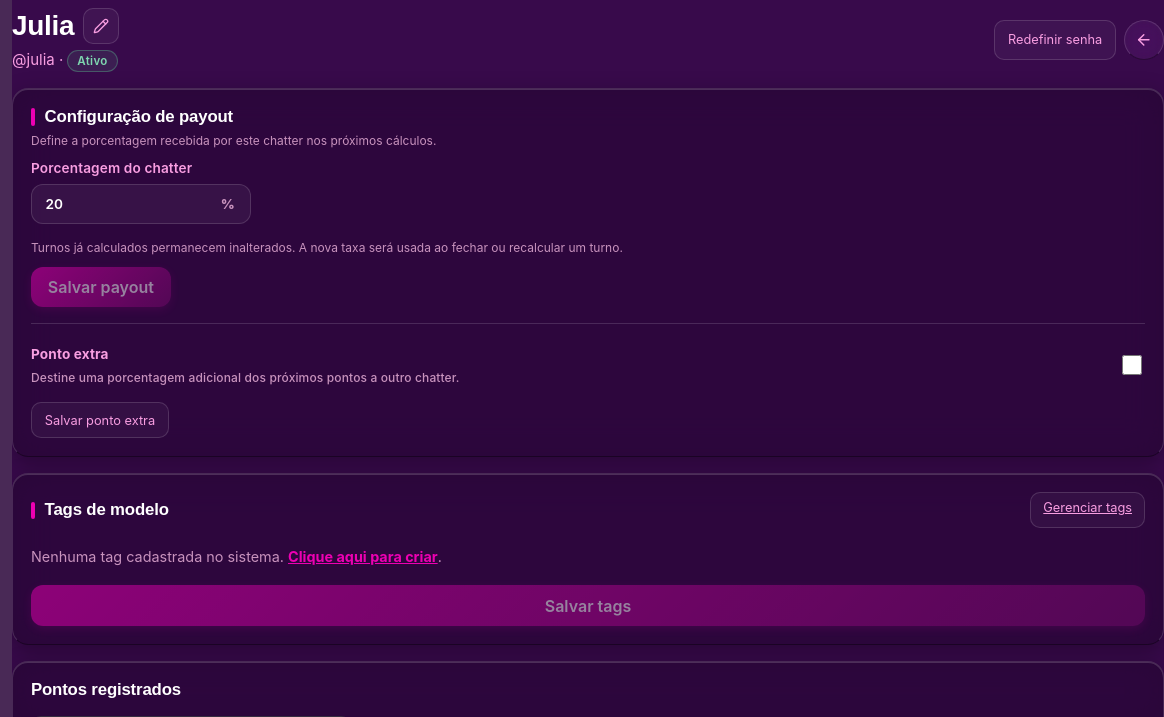
Test case: configuração de payout do chatter › carrega, valida e salva a porcentagem individual
Expected: the button "Salvar payout" is disabled, [31, 267, 171, 307]
Replace the text in the number field labelled "Porcentagem do chatter %" with "20.5". click: (141, 204)
box: [31, 184, 251, 224]
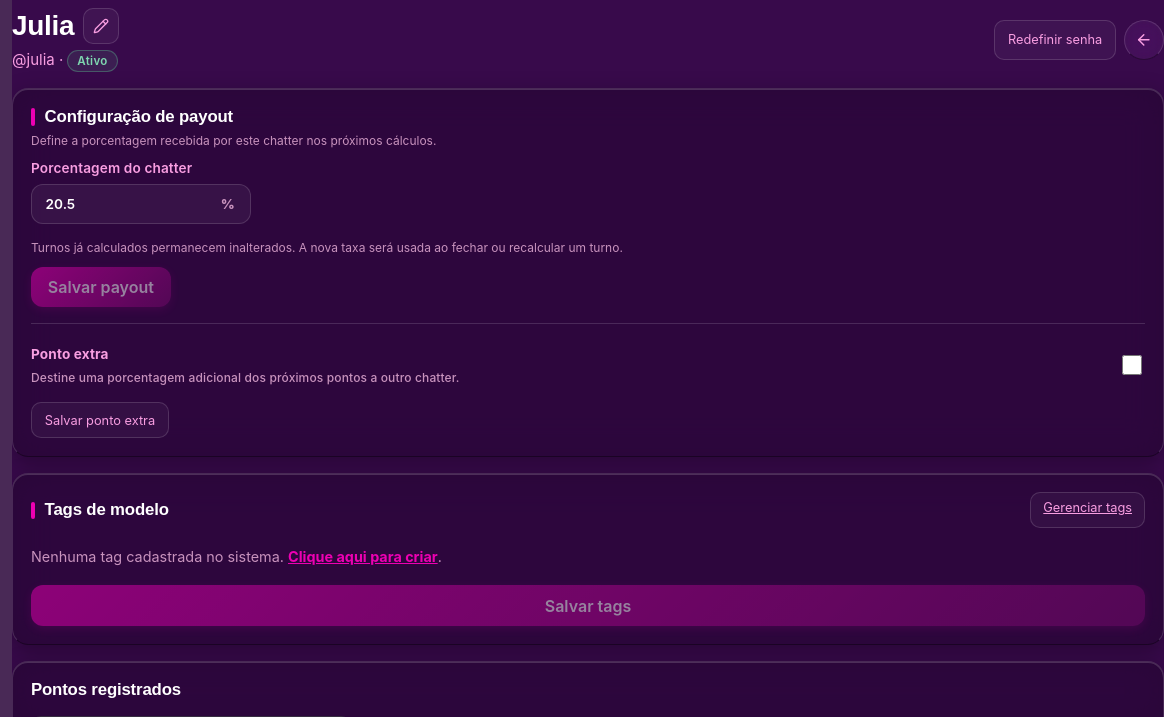
Expected: the button "Salvar payout" is disabled, [31, 267, 171, 307]
Replace the text in the number field labelled "Porcentagem do chatter %" with "35". click: (141, 204)
box: [31, 184, 251, 224]
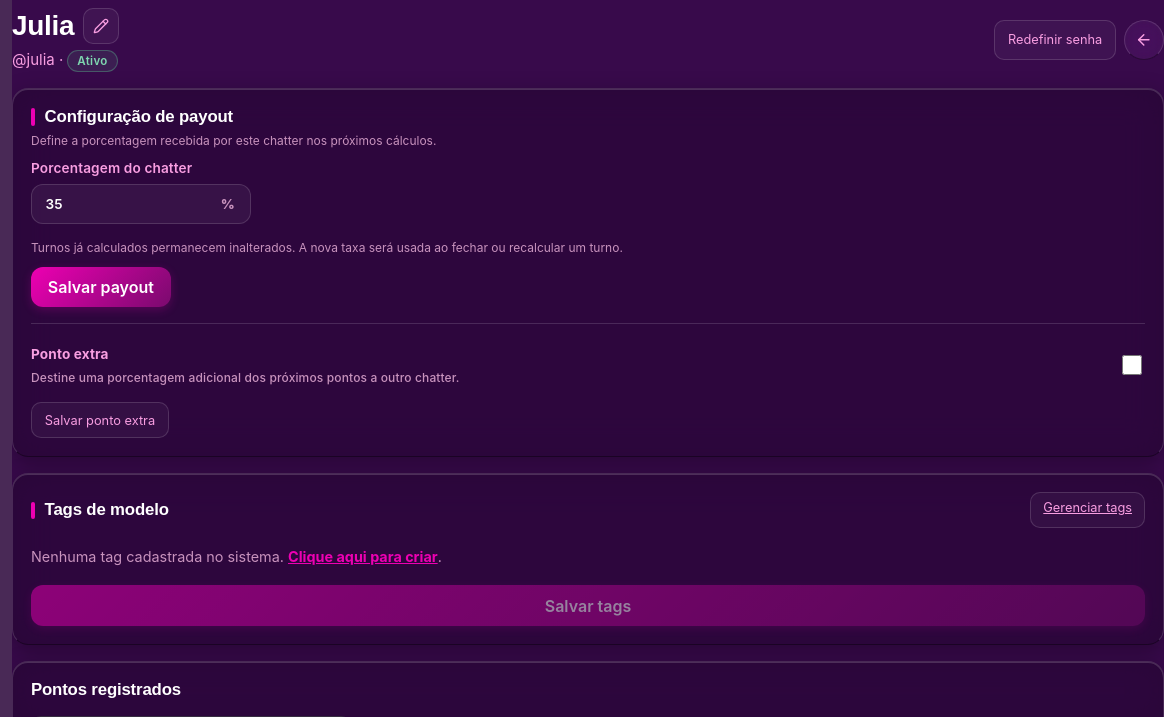
Now the button "Salvar payout" is enabled
Click the button "Salvar payout". click: (101, 287)
box: [31, 267, 171, 307]
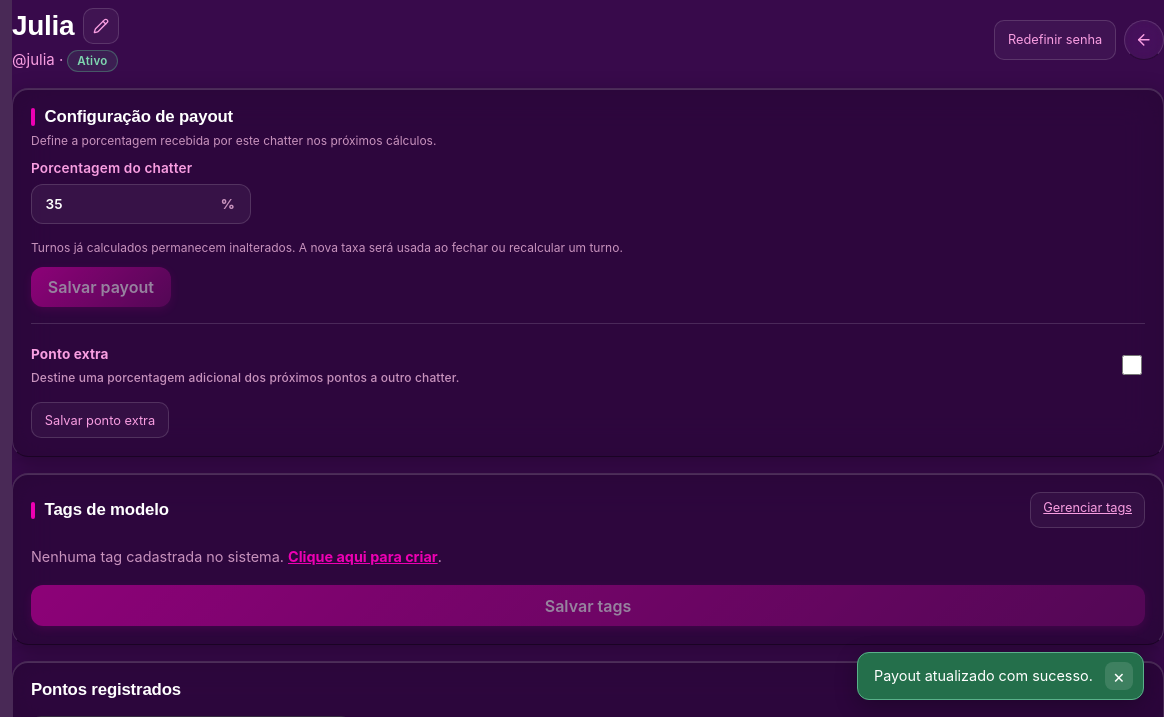
Now the button "Salvar payout" is disabled, box [31, 267, 171, 307]
